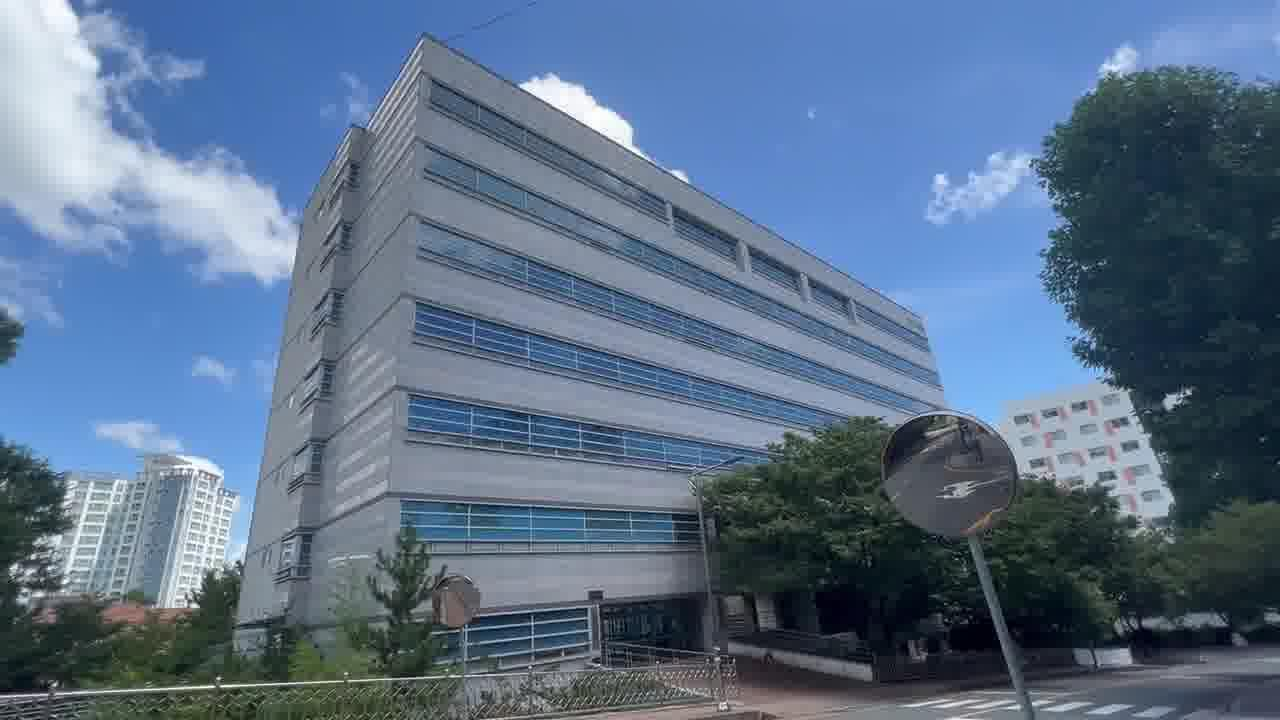building: (282, 64, 711, 611)
